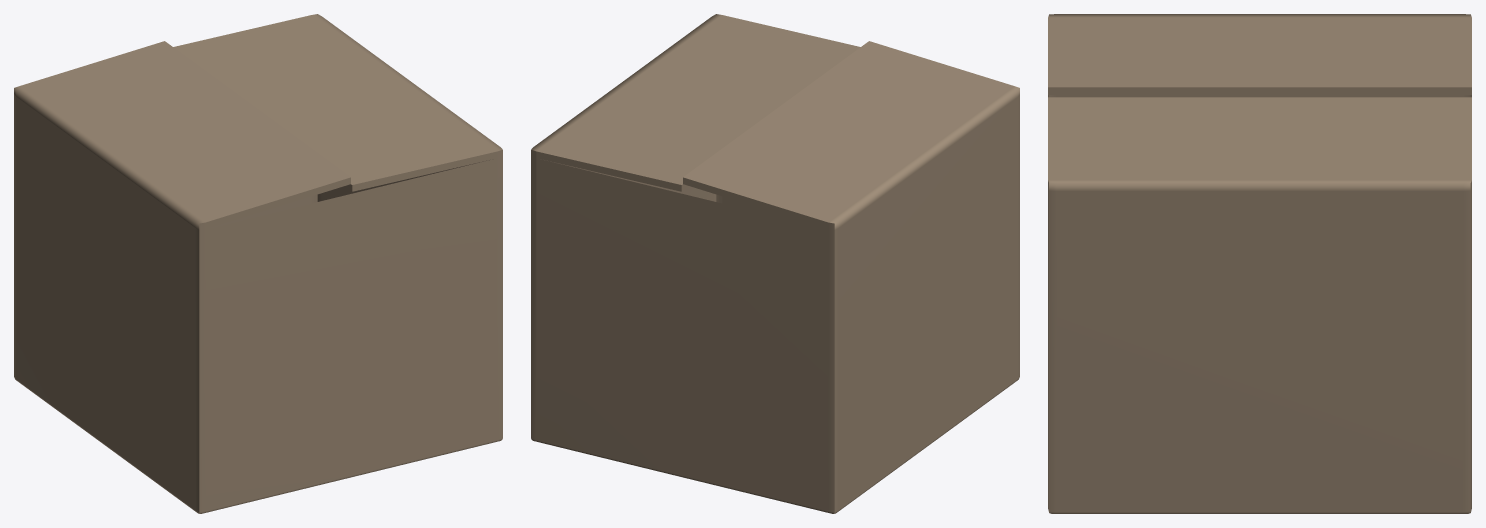
3 renders of one model, left to right at view 1: azimuth 30°, elevation 25°; view 2: azimuth 150°, elevation 25°; view 3: azimuth 270°, elevation 25°, orthographic. The views are drawn at different scales.
Parts seen in each view (by area): view 1: Box07; view 2: Box07; view 3: Box07.
Part boxes in pixels (left/top/right/bottom): Box07: left=14, top=14, right=502, bottom=513; Box07: left=531, top=14, right=1019, bottom=513; Box07: left=1048, top=14, right=1471, bottom=513.
Bounding box in the file's own units: 0.5305 × 0.5007 × 0.5608.
